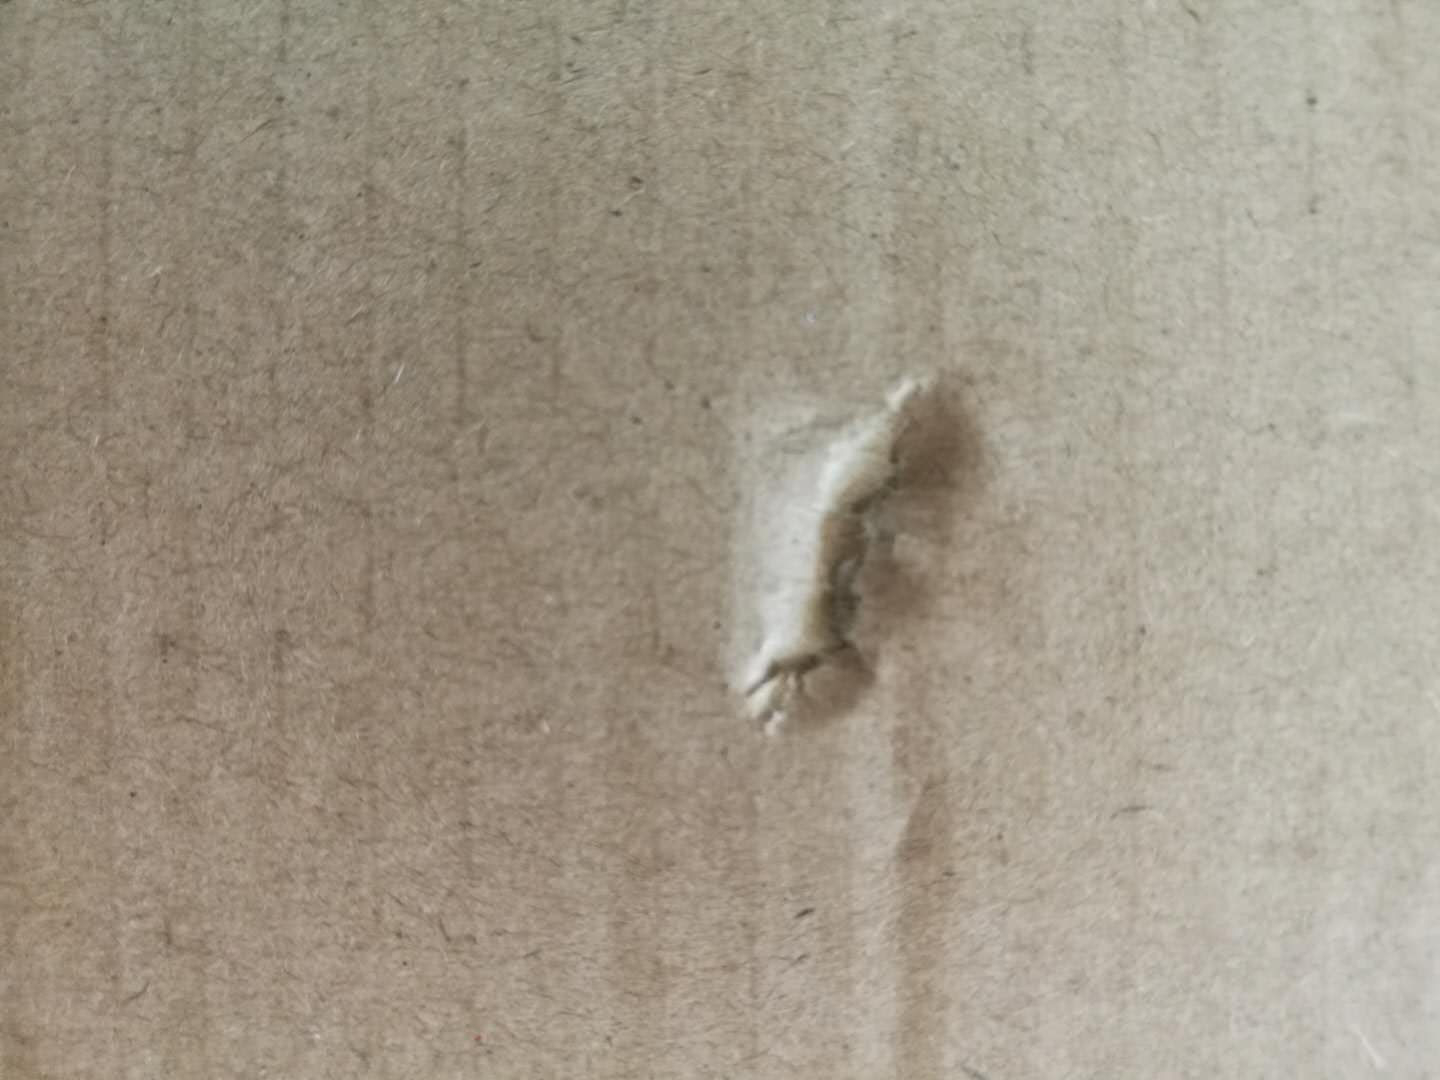defect: (685, 351, 1041, 749), (859, 719, 1010, 1080)
